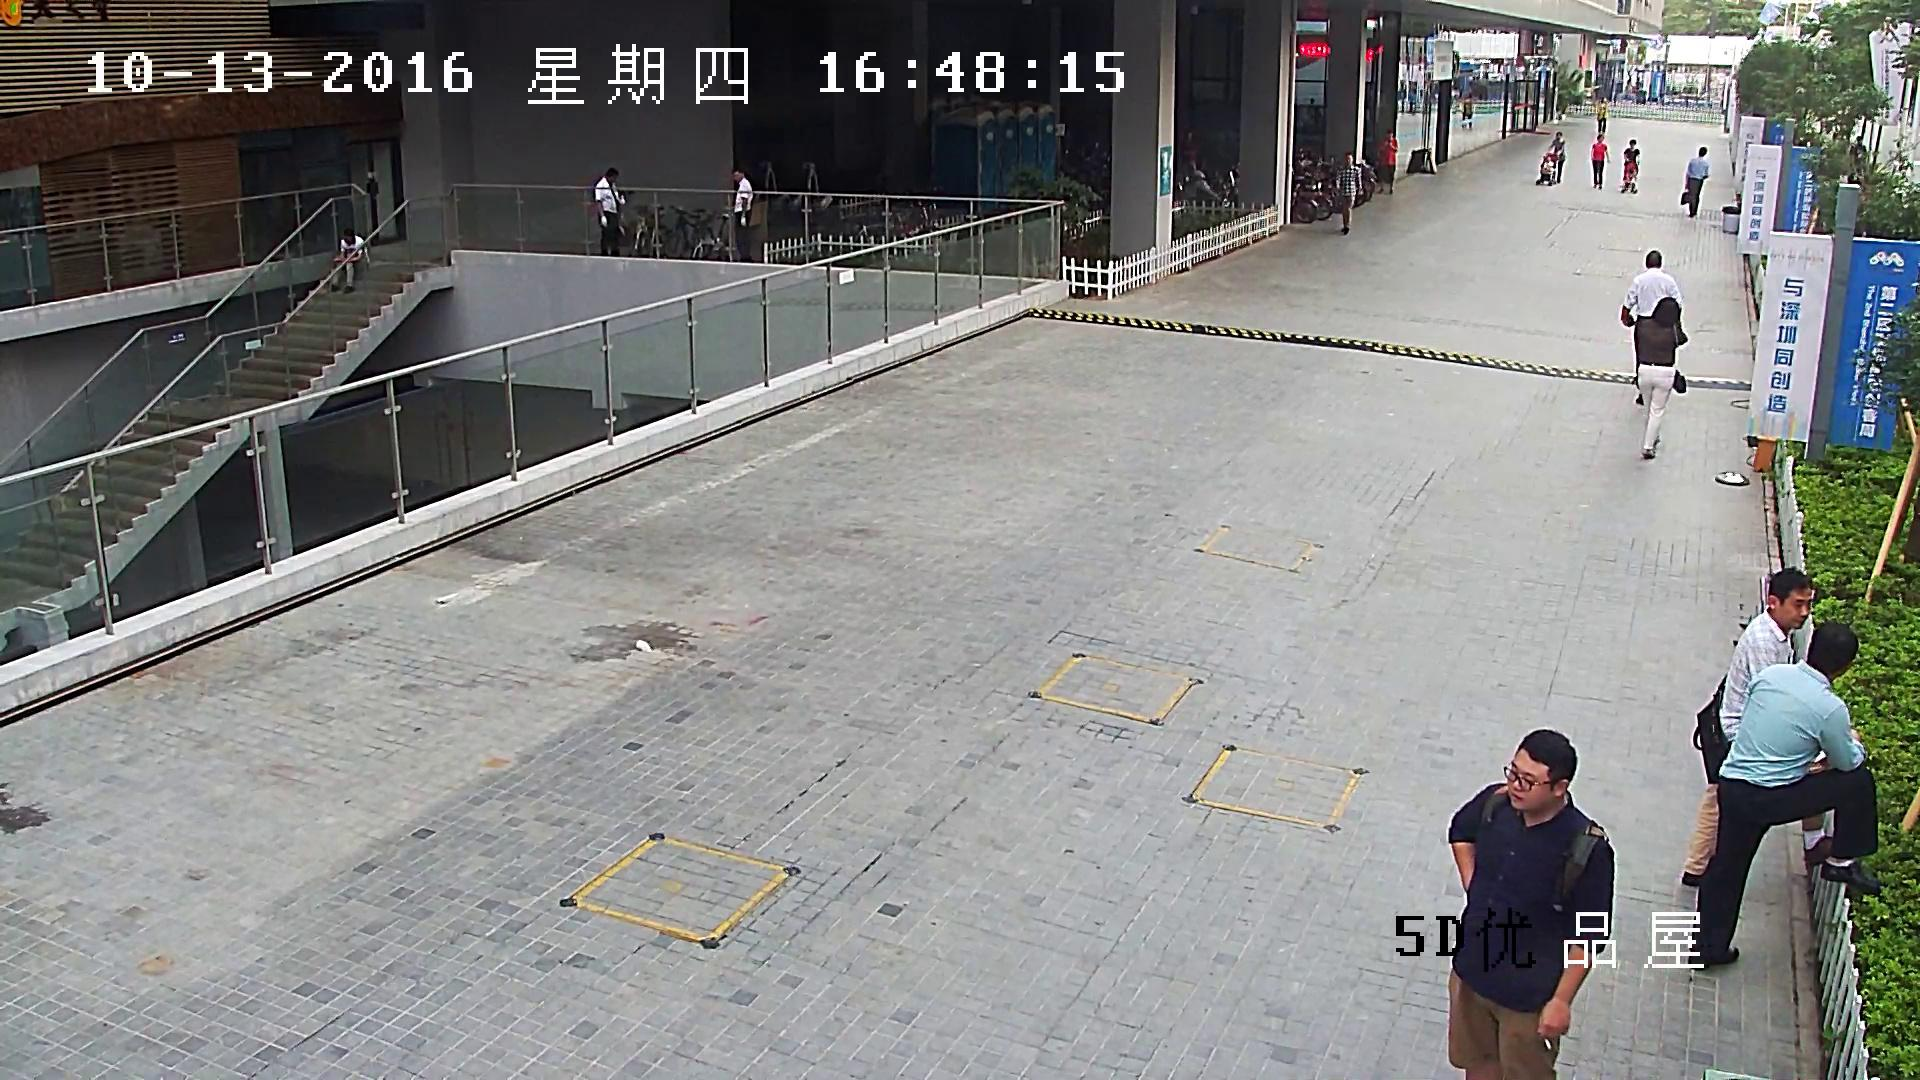person: (1687, 621, 1880, 970), (1448, 729, 1614, 1080), (1681, 568, 1832, 886), (1621, 250, 1682, 404), (1639, 296, 1688, 459), (593, 167, 625, 255), (329, 227, 369, 293), (1334, 152, 1363, 235), (1680, 146, 1711, 217), (731, 167, 752, 262), (1535, 132, 1564, 186), (1375, 127, 1397, 193), (1620, 138, 1640, 194), (1621, 138, 1640, 196), (1591, 133, 1610, 191), (1547, 131, 1565, 183), (1850, 135, 1867, 175), (1595, 96, 1607, 132)
